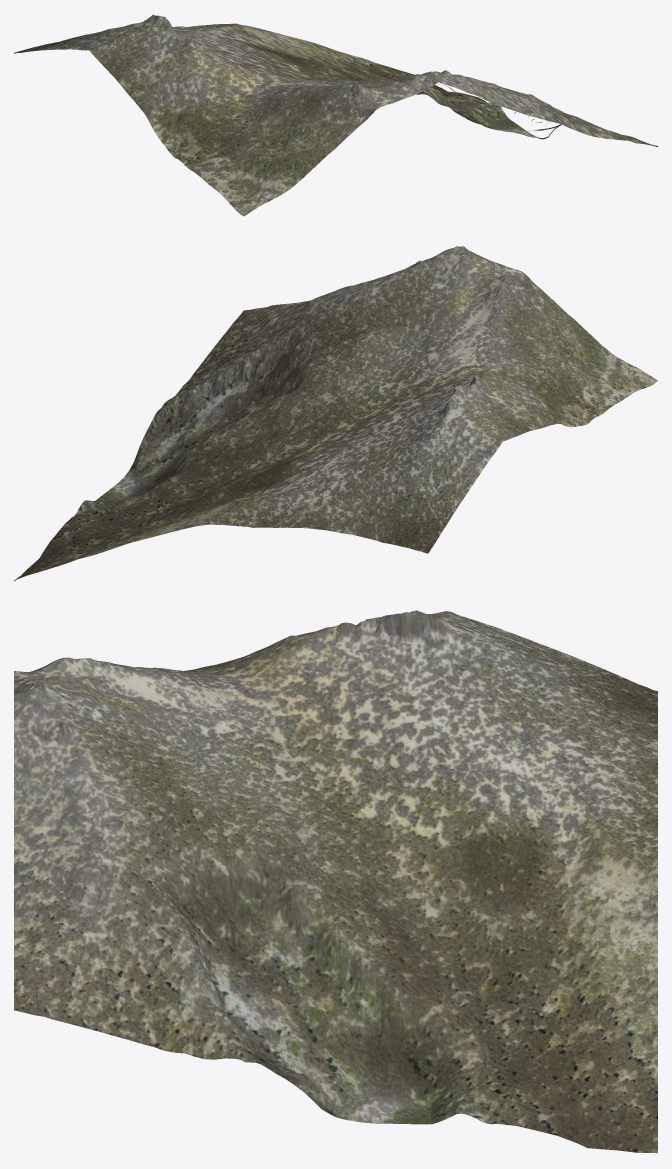
The picture shows the model from 3 angles, top to bottom: view 1: azimuth 30°, elevation 25°; view 2: azimuth 150°, elevation 25°; view 3: azimuth 270°, elevation 25°; orthographic projection. The views are drawn at different scales.
Bounding box in the file's own units: 1000 × 522 × 963.
Materials: 1 (1 with a texture image).
